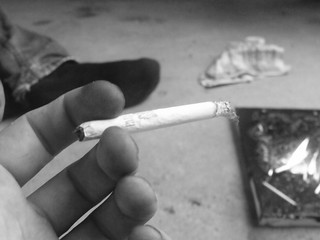cigarette: (71, 99, 242, 143)
